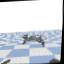drone: (22, 33, 47, 47)
